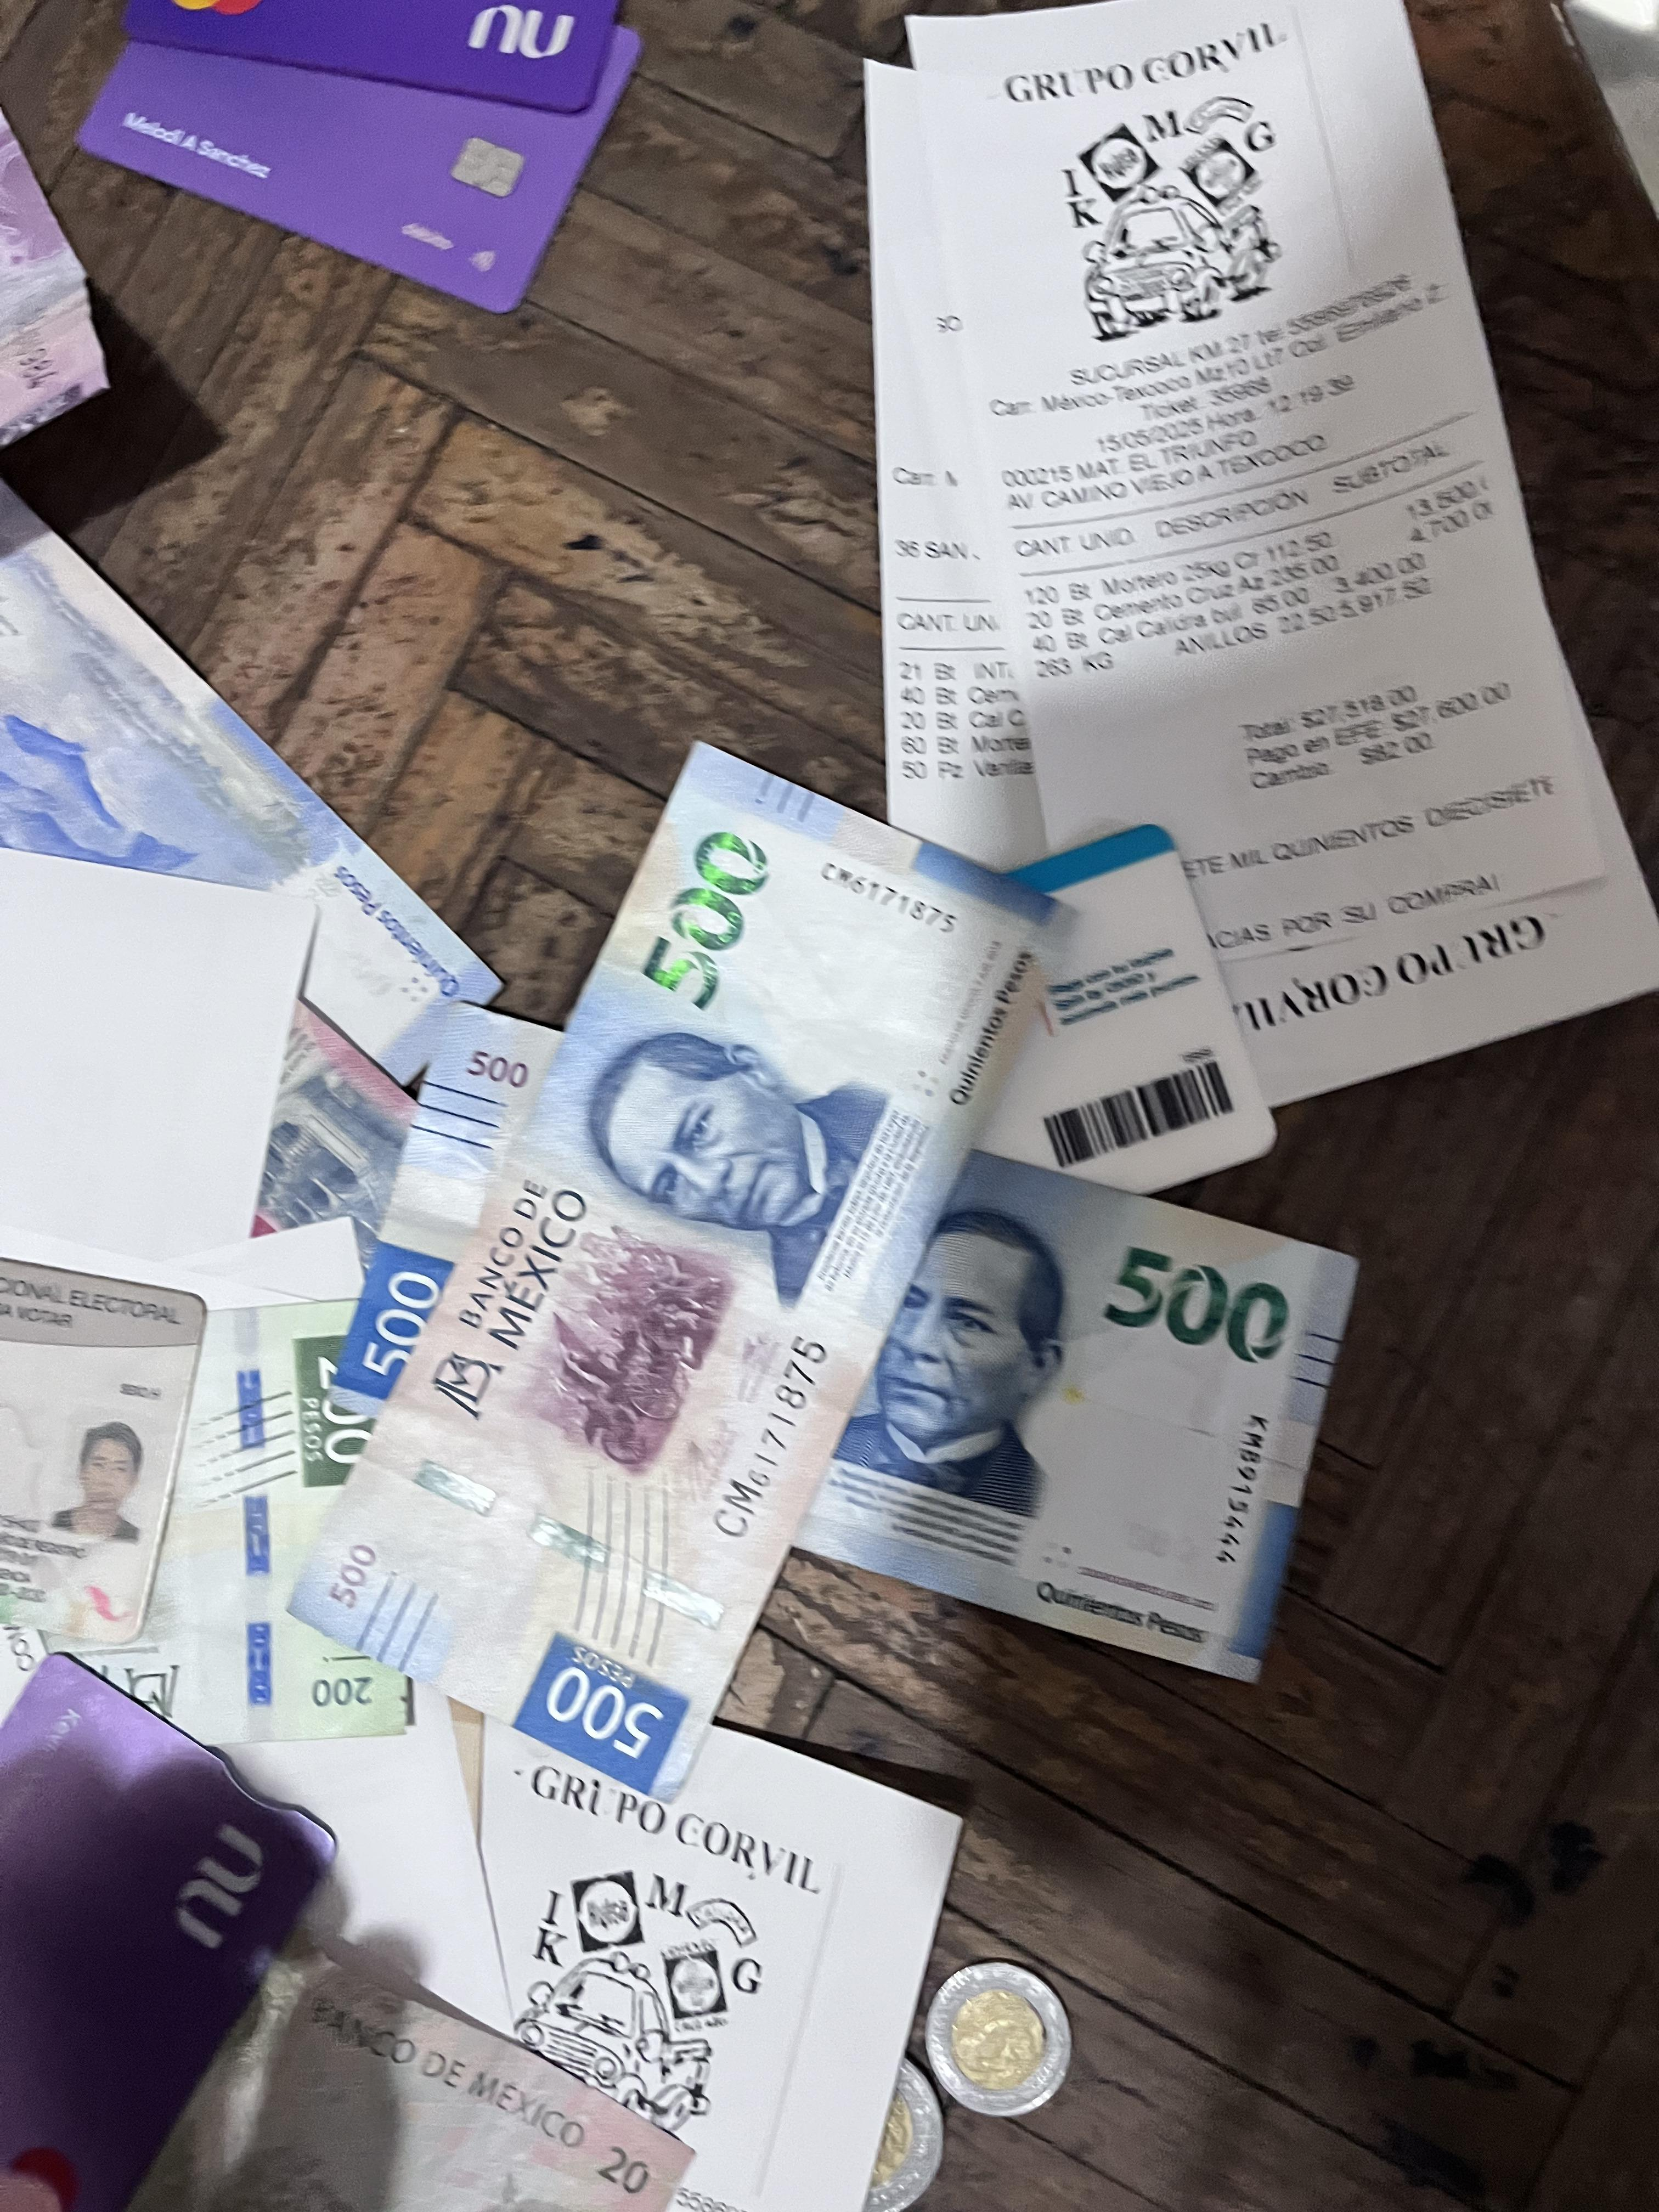20: (162, 1952, 714, 2212)
200: (0, 1296, 455, 1756)
50: (0, 77, 190, 533)
500 nuevo: (270, 719, 1103, 1832), (301, 988, 1352, 1721), (0, 449, 549, 1113)
